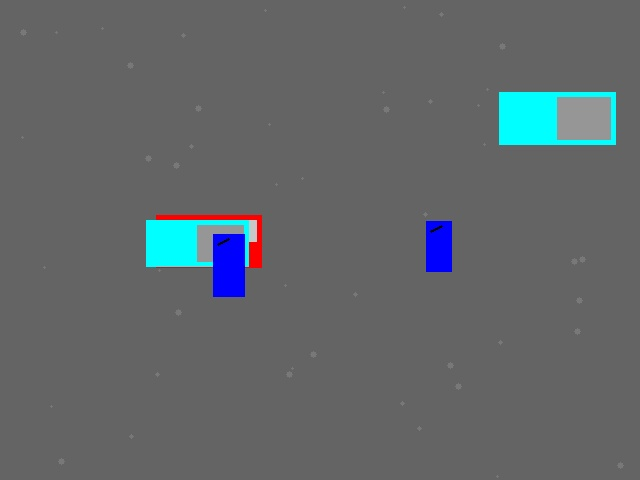car: (156, 215, 261, 267)
motorcycle: (213, 234, 244, 296), (426, 221, 451, 271)
truck: (499, 92, 615, 144), (146, 220, 248, 266)
